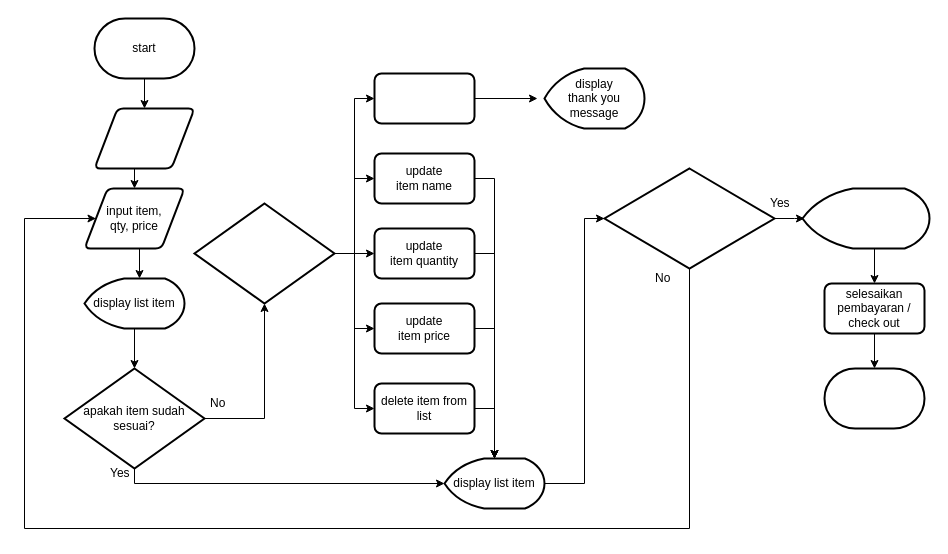
The diagram is 948 pixels wide and 554 high, and some of its shapes have lost their labels. Here are the shapes that lost their labels. From the top down, the centre of each, then its label:
At point 424,98: "cancel transaction".
At point 144,138: "input nama".
At point 689,218: "apakah ingin menyelesaikan belanja?".
At point 865,218: "display list item beserta total dengan diskon".
At point 264,253: "data apa yang ingin Anda update?".
At point 874,398: "finish".
